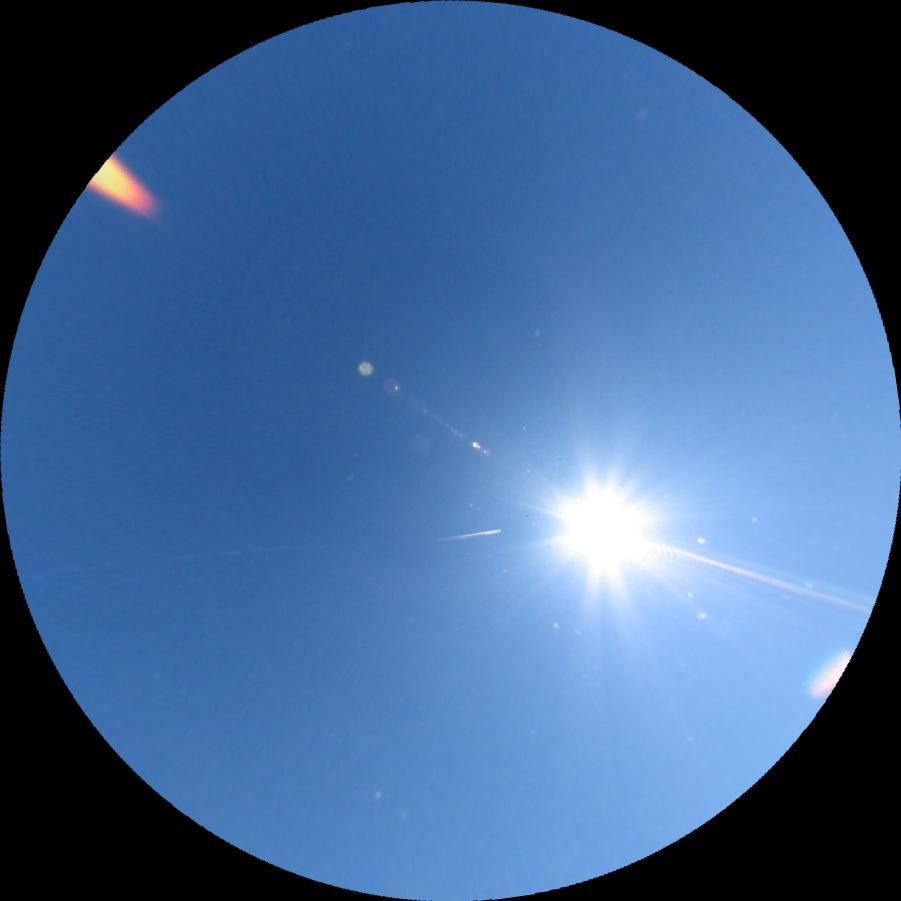contrail young: (433, 527, 500, 543)
parasite: (649, 539, 872, 614), (56, 541, 308, 573)
sun: (537, 462, 669, 594)
